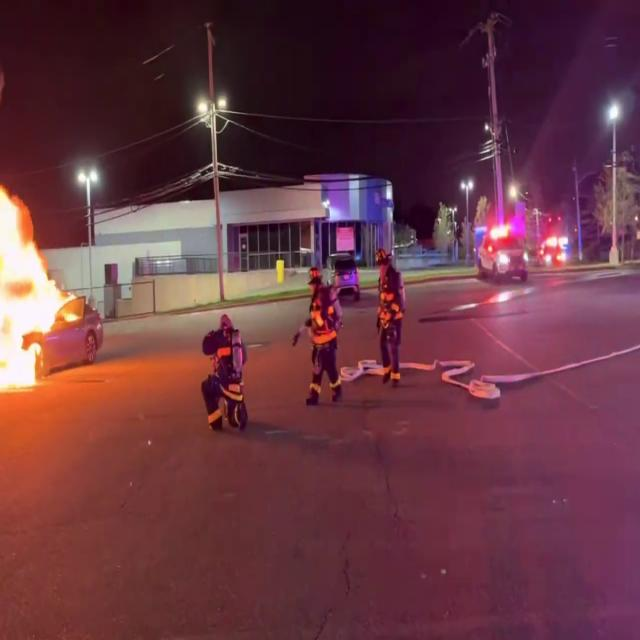Fire: (0, 167, 74, 393)
